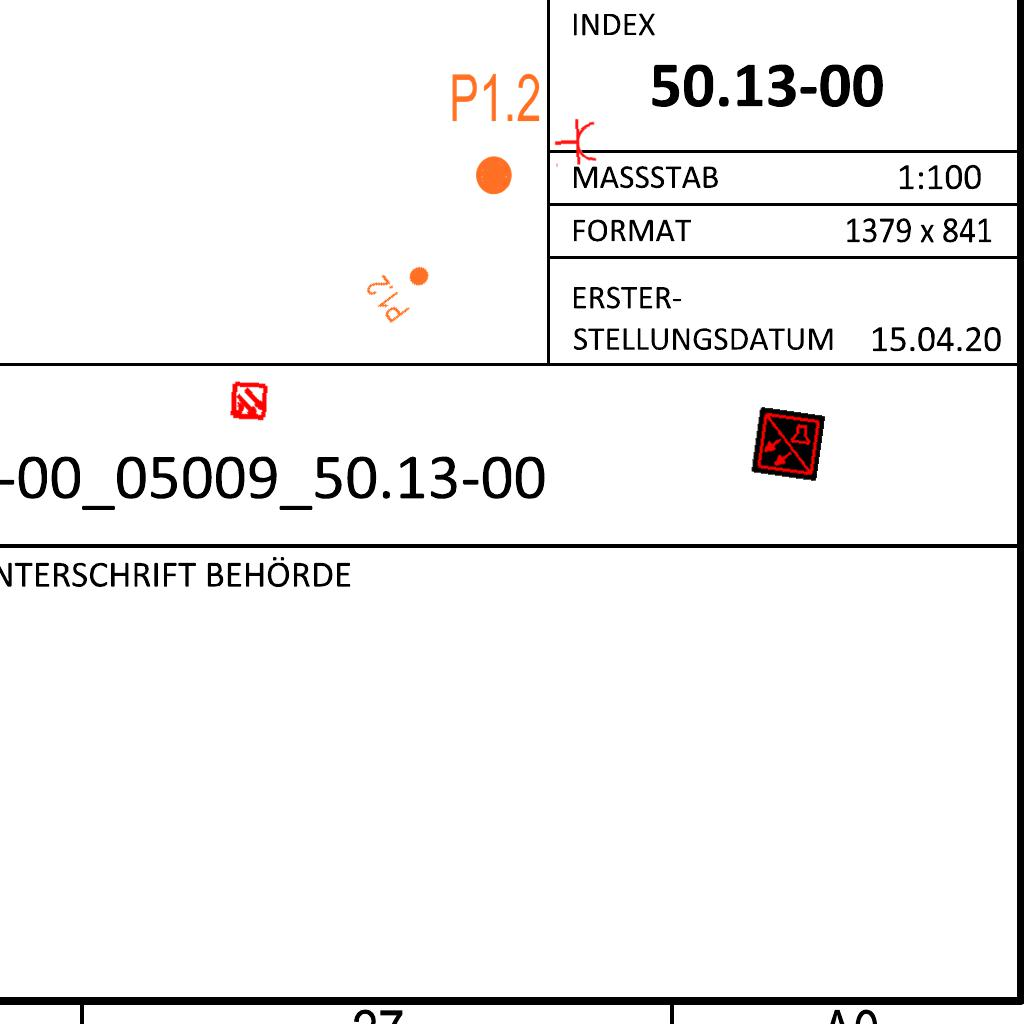Downlight_LED_Einbauleuchten_Flur: (449, 70, 542, 198), (362, 250, 442, 326)
OKW_Multisensormelder_(Kombination_optischer_Rauch-Kahlenmonoxid_Waerme-Melder): (750, 406, 826, 482)
OT_Multisensormelder_(Kombination_RMO_WMD): (219, 372, 279, 432)
Schukosteckdose_einfach: (553, 117, 598, 169)
